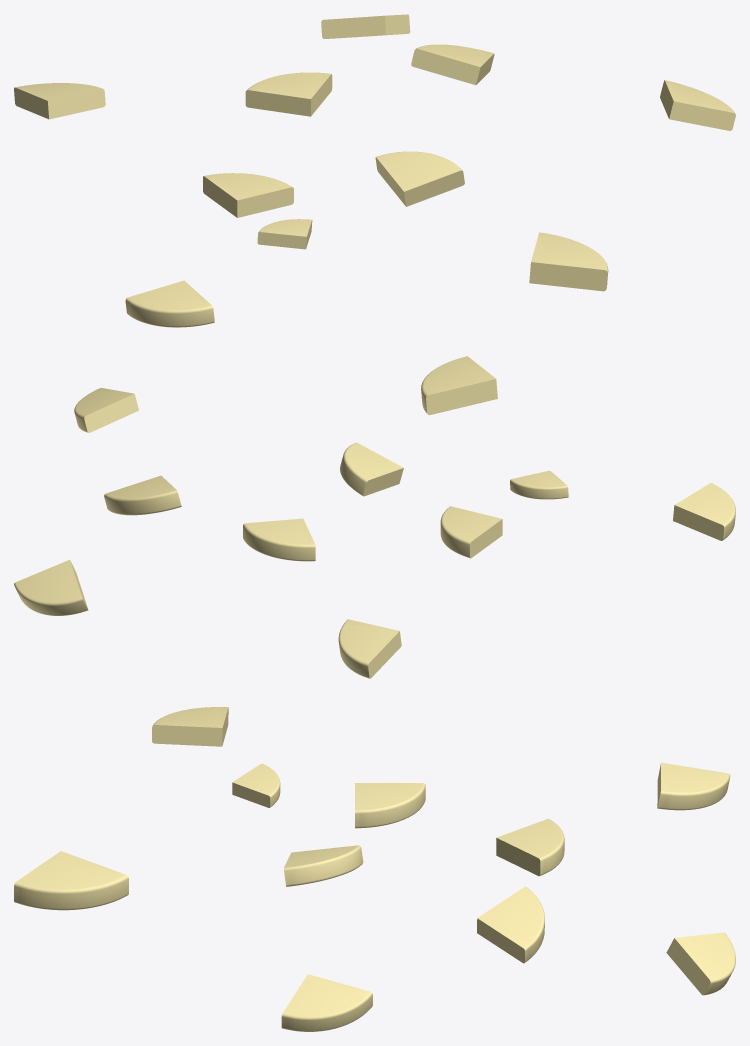
The picture shows the model from 3 angles, top to bottom: view 1: azimuth 30°, elevation 25°; view 2: azimuth 150°, elevation 25°; view 3: azimuth 270°, elevation 25°; orthographic projection. The views are drawn at different scales.
Parts seen in each view (by area): view 1: banana; view 2: banana; view 3: banana.
Part boxes in pixels (x1=…): banana: x1=14, y1=14, x2=735, y2=327; banana: x1=14, y1=356, x2=735, y2=678; banana: x1=14, y1=707, x2=735, y2=1031.
Size of the model in its own units: 1.02 by 0.1076 by 0.9705.
